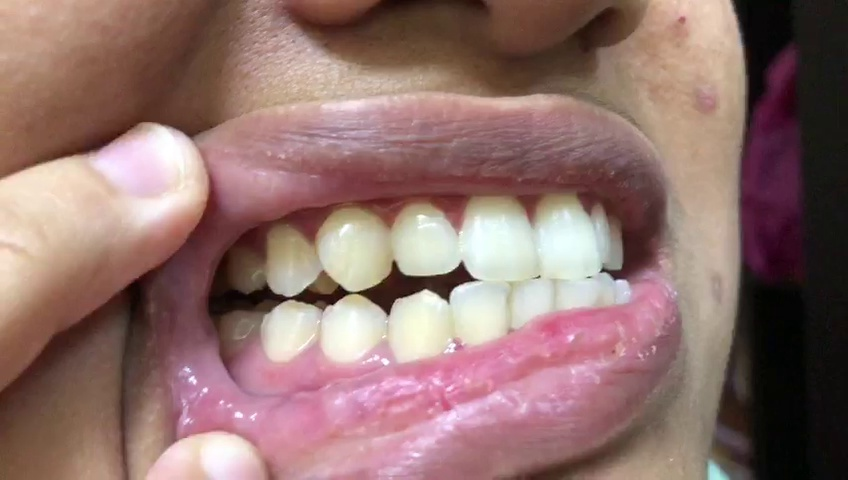1st Molar: (218, 307, 260, 356)
1st Premolar: (321, 293, 385, 365), (266, 222, 321, 297)
2nd Premolar: (258, 299, 320, 362), (227, 244, 264, 294)
Canine: (316, 201, 391, 294), (387, 290, 453, 365)
Central Incisor: (460, 194, 542, 281), (533, 193, 603, 279)
Lateral Incisor: (393, 199, 461, 277), (452, 281, 514, 352)
